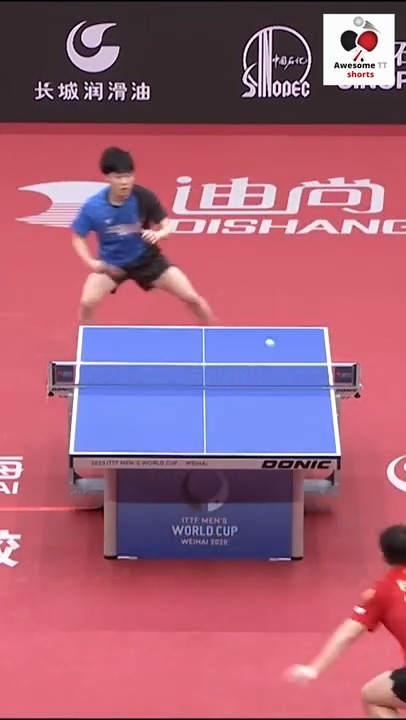Ball: (268, 337, 276, 347)
